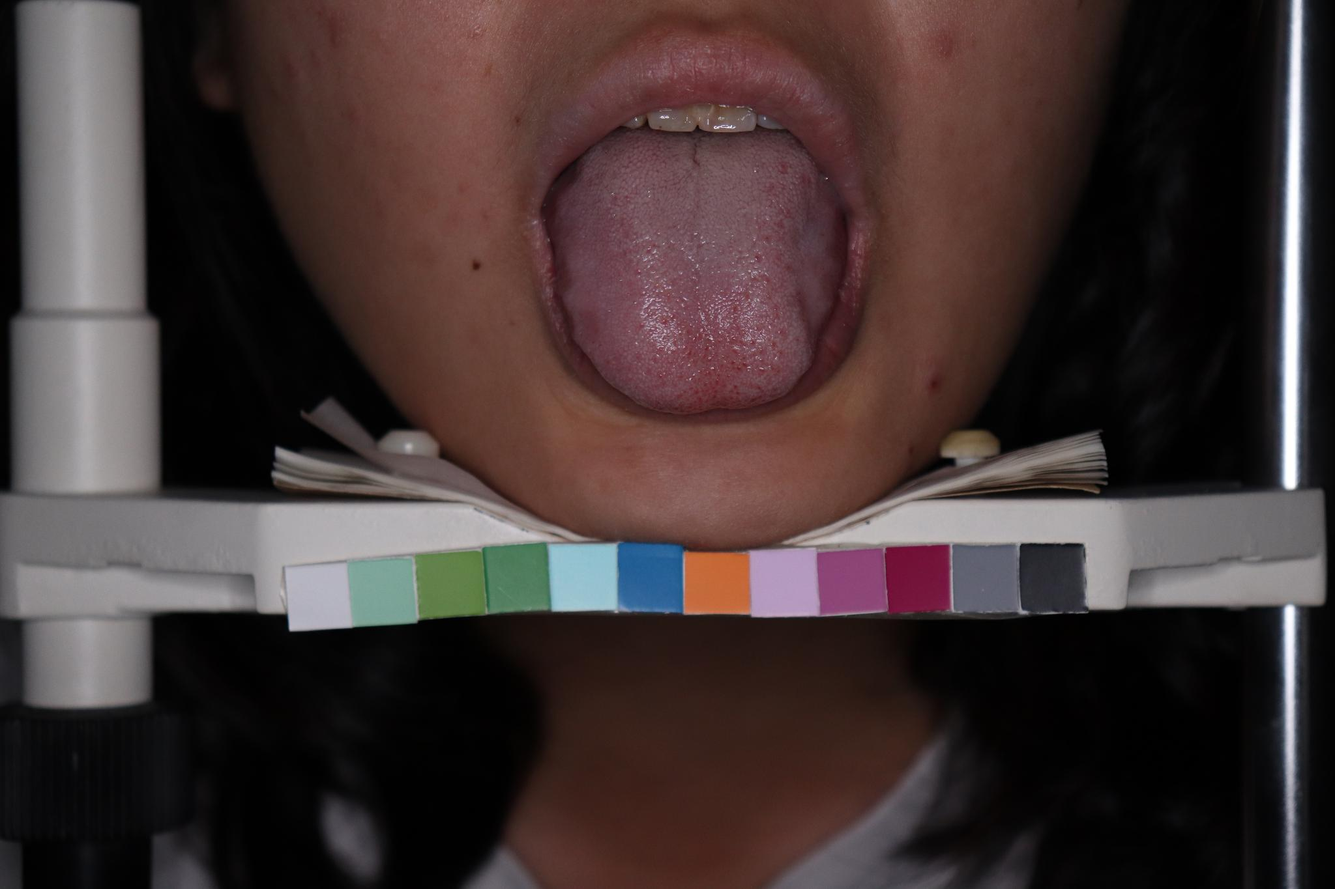baitaishe: (552, 134, 844, 413)
chihenshe: (553, 222, 582, 346)
gandanao: (789, 171, 845, 356)
